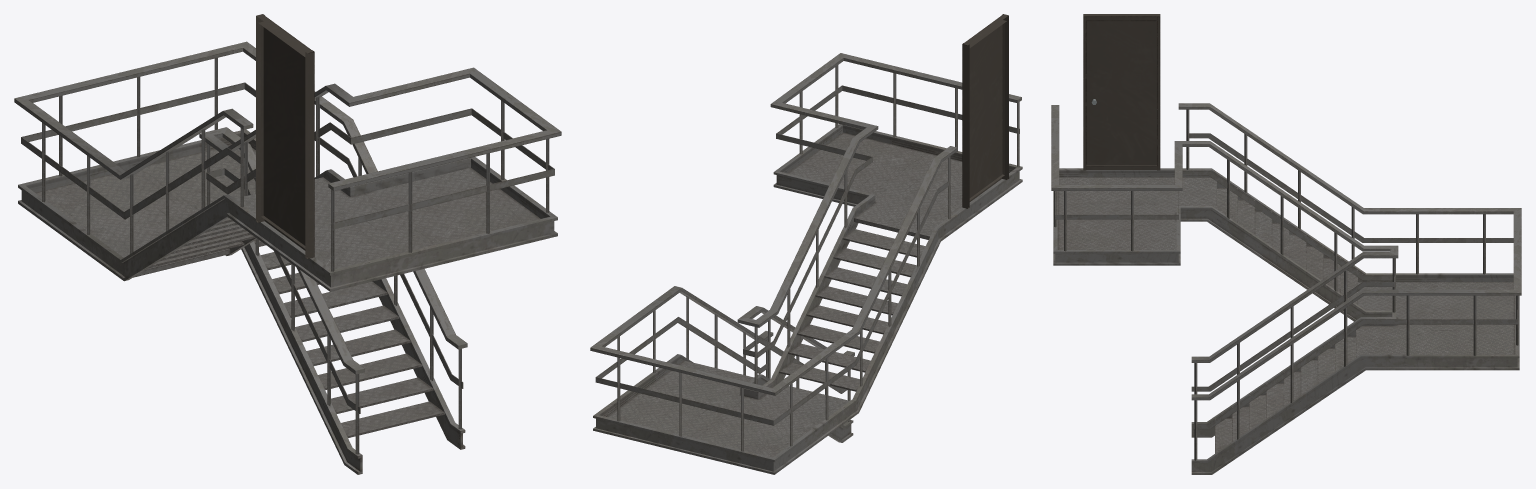
The model's file is jctBldStairATop.fbx.
3 views of the same model, side by side, from view 1: azimuth 30°, elevation 25°; view 2: azimuth 150°, elevation 25°; view 3: azimuth 270°, elevation 25° (orthographic). The views are drawn at different scales.
Parts seen in each view (by area): view 1: jctBldStairATop; view 2: jctBldStairATop; view 3: jctBldStairATop.
Boxes of the visible parts, x1=… form: jctBldStairATop: x1=14, y1=14, x2=561, y2=474; jctBldStairATop: x1=590, y1=14, x2=1022, y2=474; jctBldStairATop: x1=1051, y1=14, x2=1521, y2=474.
Size of the model in its own units: 261 by 540 by 611.
